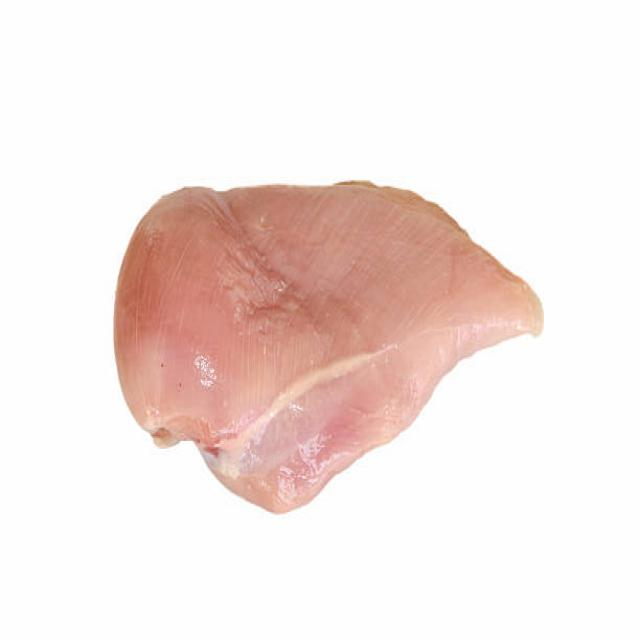chicken thigh: (76, 174, 590, 520)
